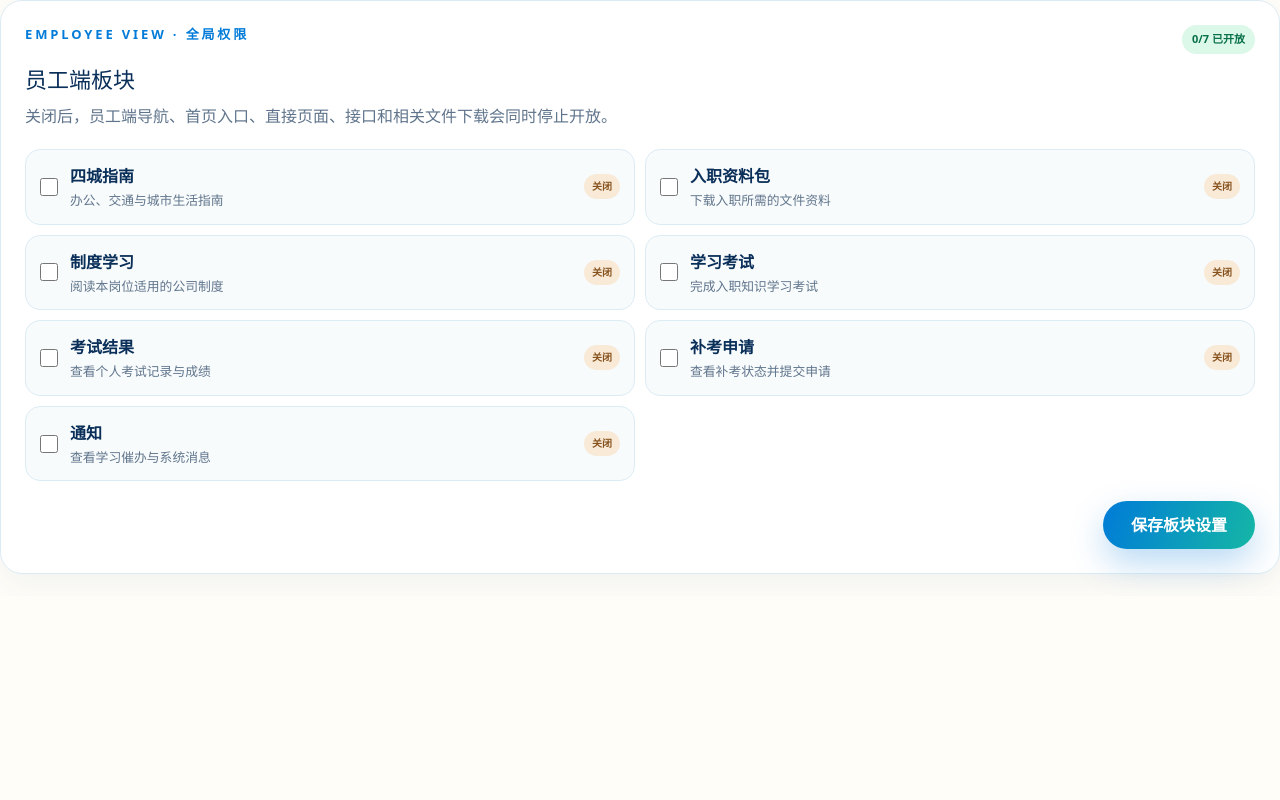
Test case: ModuleSettings › renders all seven fixed switches and saves the complete enabled set
Click the checkbox labelled "学习考试 完成入职知识学习考试 关闭". click: (669, 272)
box: [660,263,678,281]
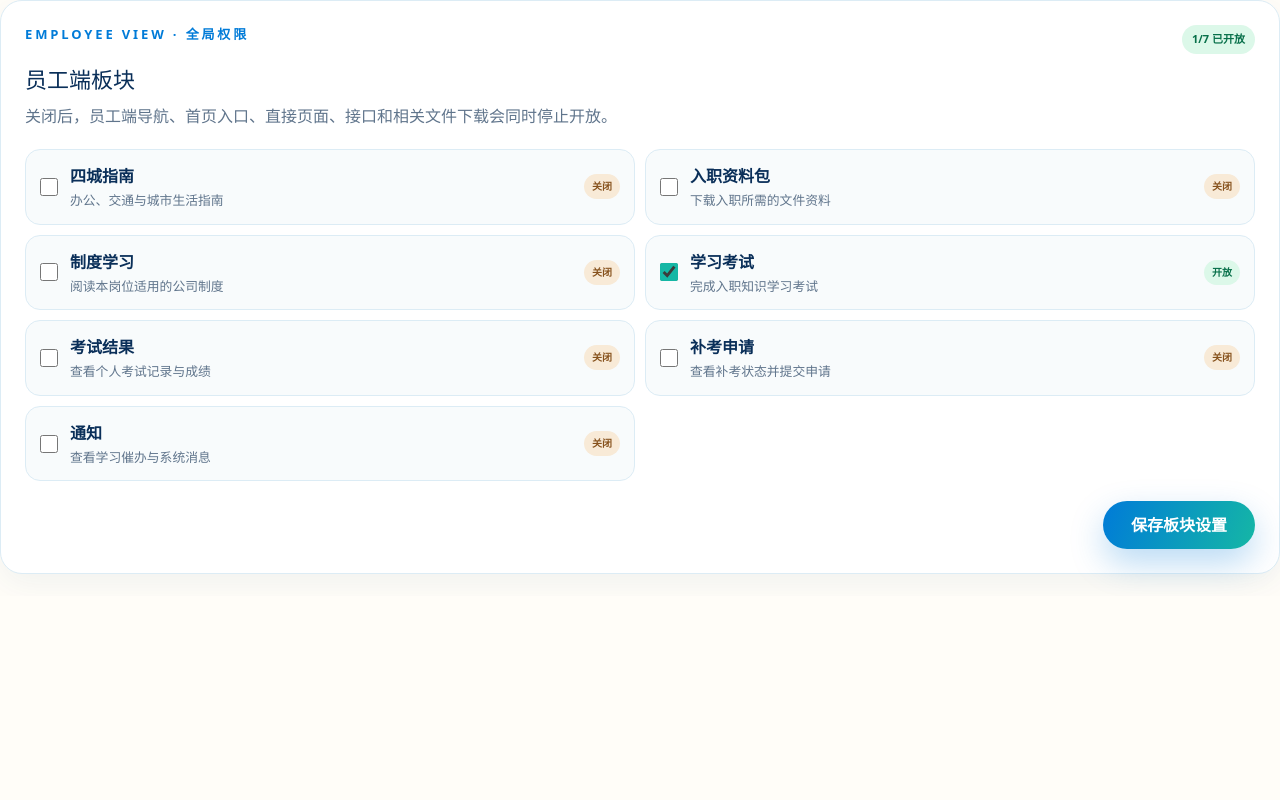
Click the button "保存板块设置". click: (1179, 525)
box: [1103,501,1255,549]
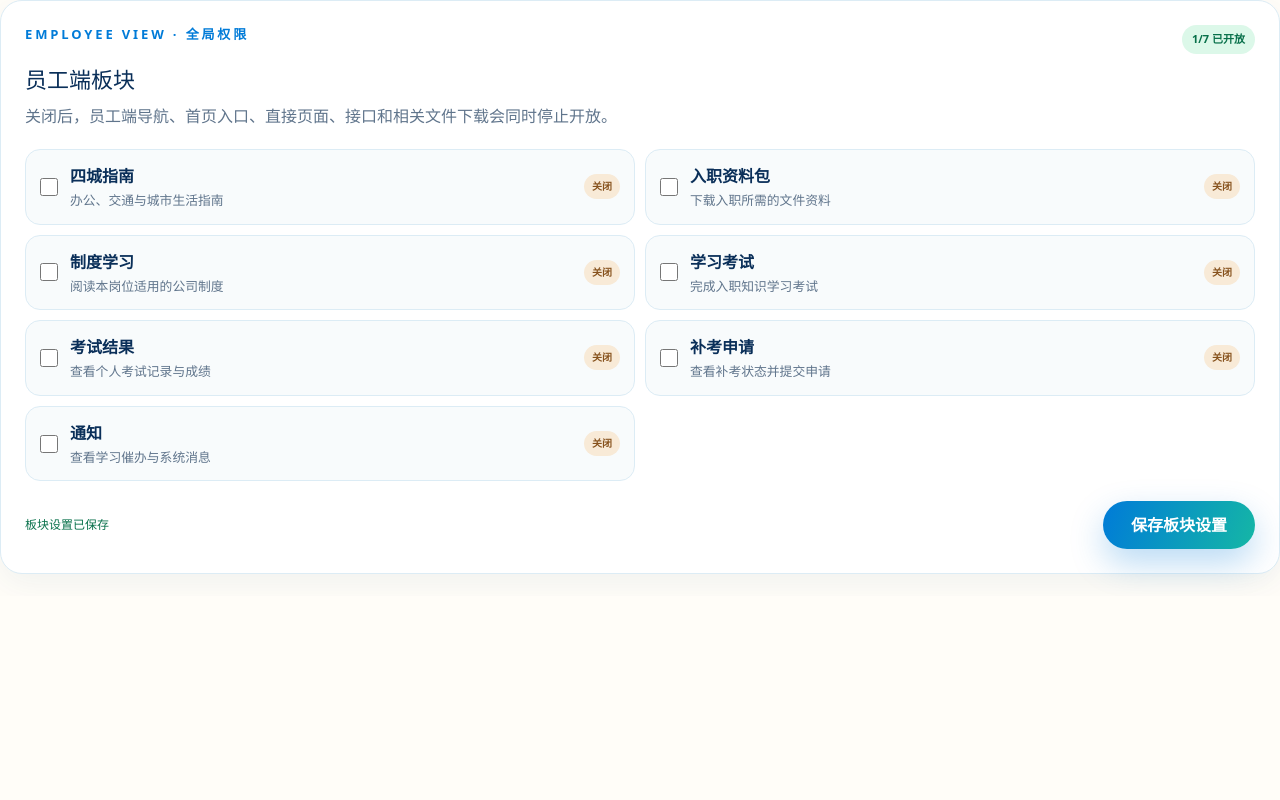
Check: the message reads "板块设置已保存", box [25,516,109,533]
